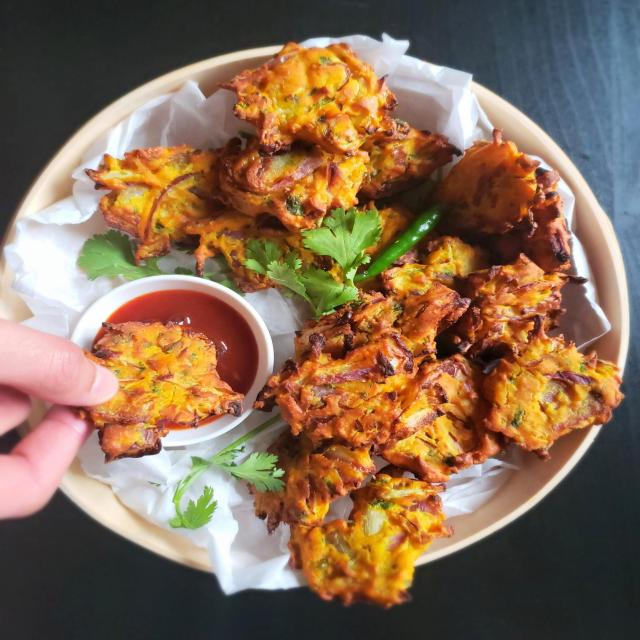BAJI: (198, 140, 615, 613), (234, 52, 392, 151), (433, 145, 563, 256), (85, 153, 225, 256)
